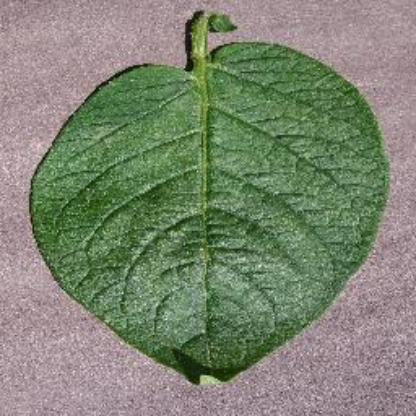Healthy-plant: (28, 12, 395, 394)
